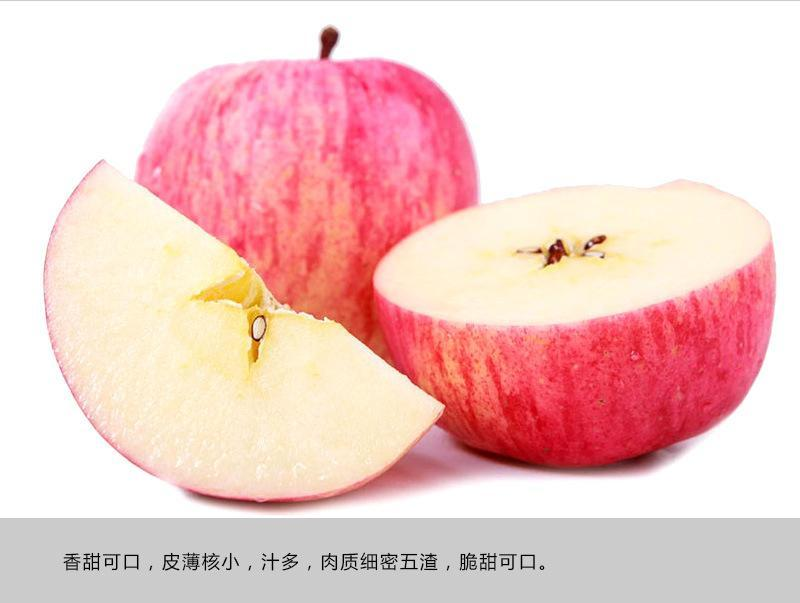apple: (103, 57, 482, 421)
